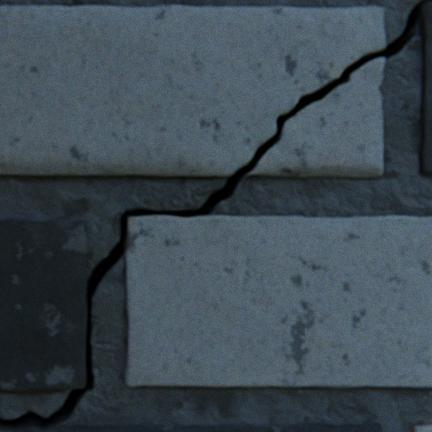brick: (125, 216, 431, 387), (0, 219, 88, 390), (418, 3, 431, 174), (411, 425, 431, 431)
broken_brick: (0, 6, 384, 176), (248, 58, 383, 177), (0, 422, 380, 431)
crack: (0, 0, 431, 429)
